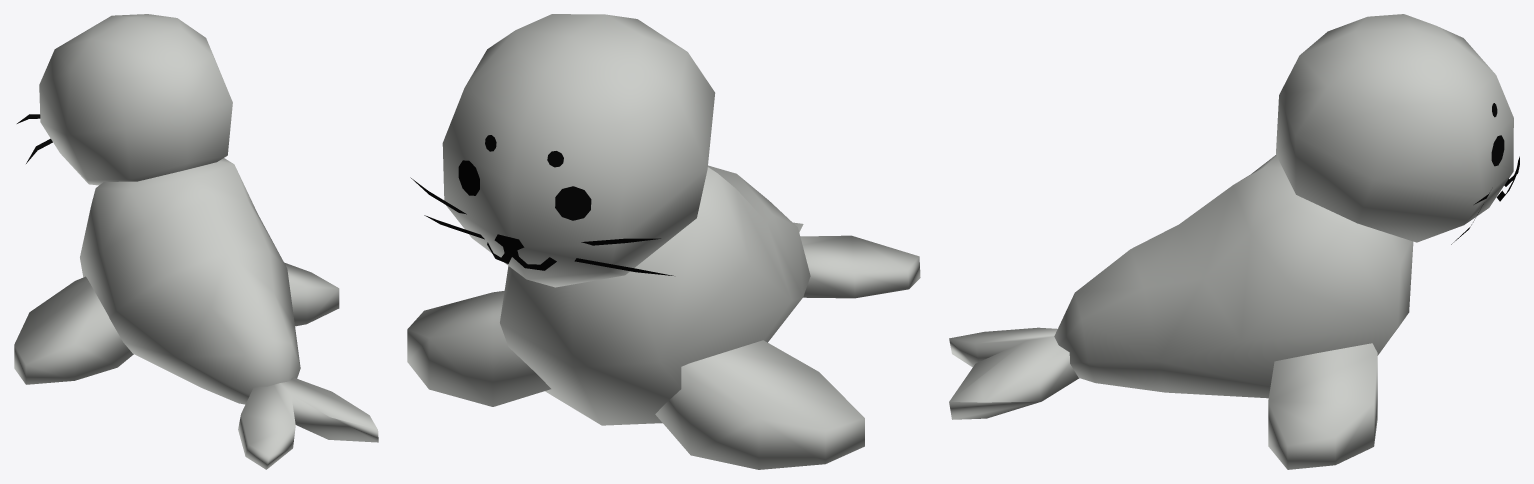
File: goma.obj
The picture shows the model from 3 angles, left to right: view 1: azimuth 30°, elevation 25°; view 2: azimuth 150°, elevation 25°; view 3: azimuth 270°, elevation 25°; orthographic projection. The views are drawn at different scales.
Parts seen in each view (by area): view 1: body, head, handLeft, tail, handRight; view 2: head, body, handLeft, handRight, tail, eyes; view 3: body, head, handRight, tail.
Boxes of the visible parts, <box> form: body: <box>80,158,300,404</box>; head: <box>17,14,232,185</box>; handLeft: <box>14,276,133,384</box>; tail: <box>238,377,378,469</box>; handRight: <box>284,262,339,326</box>; head: <box>410,14,715,287</box>; body: <box>500,165,810,425</box>; handLeft: <box>655,340,864,469</box>; handRight: <box>407,291,550,406</box>; tail: <box>793,222,920,298</box>; eyes: <box>458,160,591,220</box>; body: <box>1054,155,1413,398</box>; head: <box>1276,14,1519,244</box>; handRight: <box>1268,343,1377,469</box>; tail: <box>949,327,1079,419</box>.
Size of the model in its own units: 1.78 by 1.62 by 2.35.
1 material, 1 textured.
